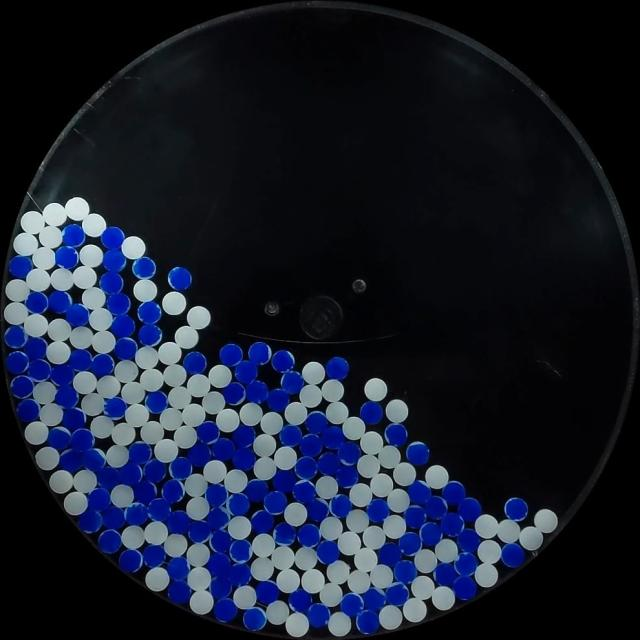pmmma-azul: (58, 448, 85, 476), (118, 460, 144, 486), (102, 397, 128, 423), (456, 528, 481, 554), (500, 542, 525, 568), (306, 603, 331, 629), (452, 574, 477, 600), (167, 509, 192, 534), (453, 551, 478, 576), (186, 442, 211, 467), (213, 597, 238, 622), (242, 606, 267, 631), (503, 496, 528, 521), (118, 548, 143, 573), (424, 494, 448, 520), (441, 511, 465, 537), (99, 505, 125, 529), (207, 551, 231, 577), (292, 478, 316, 504), (458, 496, 482, 522), (78, 508, 104, 532), (161, 478, 185, 504), (316, 539, 340, 564), (143, 458, 167, 483), (297, 523, 321, 548), (229, 538, 253, 563), (47, 426, 72, 450), (10, 374, 35, 398), (98, 529, 122, 554), (384, 422, 408, 447), (82, 447, 106, 472), (356, 609, 380, 634), (263, 490, 287, 515), (5, 350, 30, 374), (304, 497, 328, 522), (232, 446, 256, 471), (231, 423, 255, 448), (255, 580, 280, 604), (53, 384, 78, 408), (62, 407, 86, 432), (24, 336, 48, 361), (69, 348, 94, 372), (407, 480, 432, 504), (442, 480, 466, 505), (16, 398, 40, 423), (111, 314, 136, 338), (167, 579, 191, 604), (106, 292, 131, 316), (205, 482, 228, 508), (4, 324, 28, 348), (196, 420, 220, 444), (147, 498, 171, 522), (340, 592, 364, 616), (187, 519, 211, 543), (250, 510, 274, 534), (70, 428, 94, 452), (406, 441, 430, 465), (377, 542, 401, 566), (226, 562, 250, 586), (54, 246, 78, 270), (281, 370, 305, 394), (273, 468, 297, 492), (87, 487, 111, 511), (325, 356, 349, 380), (234, 360, 258, 384), (101, 226, 125, 250), (48, 290, 72, 314), (25, 290, 49, 314), (65, 302, 89, 326), (128, 441, 152, 465), (138, 300, 162, 324), (114, 337, 138, 361), (124, 501, 148, 525), (273, 522, 297, 546), (92, 352, 115, 377), (329, 493, 352, 518), (398, 531, 421, 556), (419, 521, 442, 546), (183, 351, 208, 374), (50, 363, 75, 386), (99, 271, 124, 294), (366, 498, 389, 522), (279, 424, 303, 447), (360, 400, 383, 424), (28, 358, 52, 381), (227, 492, 250, 516), (271, 349, 295, 372), (393, 559, 416, 583), (337, 441, 360, 465), (222, 382, 246, 405), (248, 341, 271, 365), (219, 343, 243, 366), (403, 505, 426, 529), (294, 455, 317, 479), (288, 589, 312, 612), (245, 380, 269, 403), (62, 223, 85, 247), (142, 544, 166, 567), (266, 388, 290, 411), (167, 556, 190, 580), (210, 576, 233, 600), (168, 267, 192, 290), (434, 562, 457, 586), (138, 323, 162, 346), (102, 248, 126, 271), (9, 255, 33, 278), (208, 505, 231, 529), (300, 432, 322, 457), (385, 582, 408, 605), (212, 437, 235, 460), (96, 466, 119, 489), (209, 529, 232, 552), (170, 456, 192, 480), (317, 450, 339, 474), (132, 481, 157, 502), (145, 391, 168, 413), (336, 465, 358, 488), (362, 587, 384, 610), (133, 256, 156, 278), (246, 479, 268, 501), (305, 411, 328, 432), (323, 428, 345, 448)
